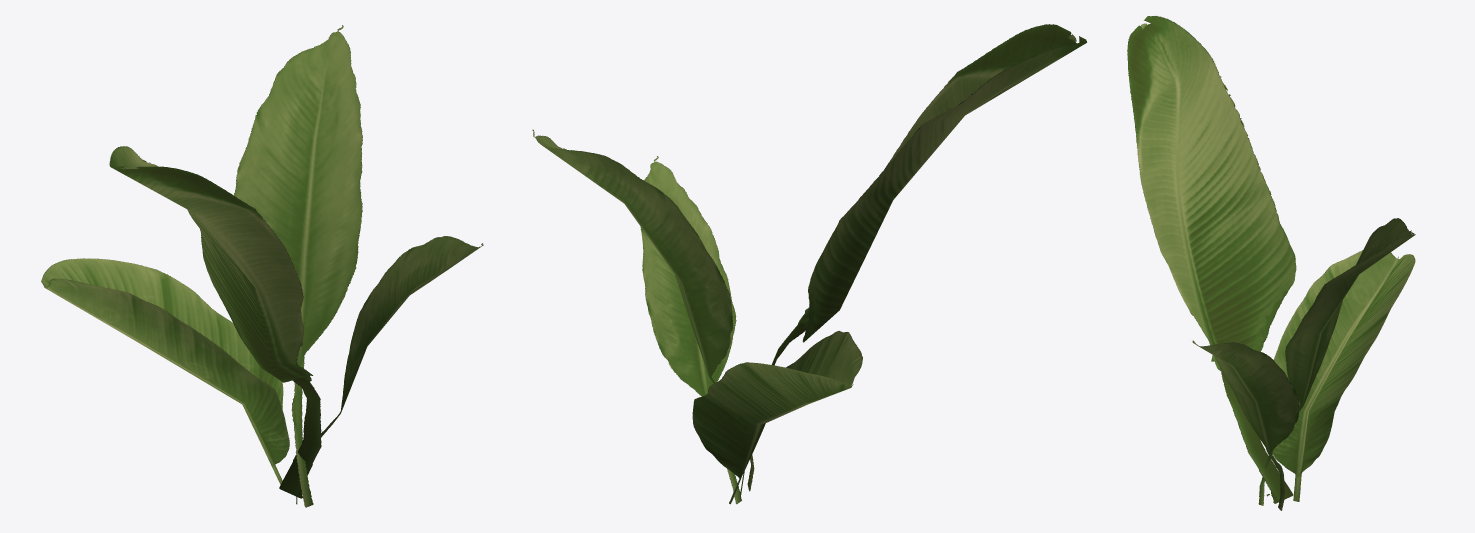
The model's file is BananaLeafSmall.fbx.
3 renders of one model, left to right at view 1: azimuth 30°, elevation 25°; view 2: azimuth 150°, elevation 25°; view 3: azimuth 270°, elevation 25°, orthographic. The views are drawn at different scales.
Visible parts, largest first — view 1: BananaLeafSmall; view 2: BananaLeafSmall; view 3: BananaLeafSmall.
Boxes of the visible parts, <box> form: BananaLeafSmall: <box>41,25,483,507</box>; BananaLeafSmall: <box>532,24,1086,504</box>; BananaLeafSmall: <box>1127,16,1415,510</box>.
Size of the model in its own units: 151 by 167 by 130.
